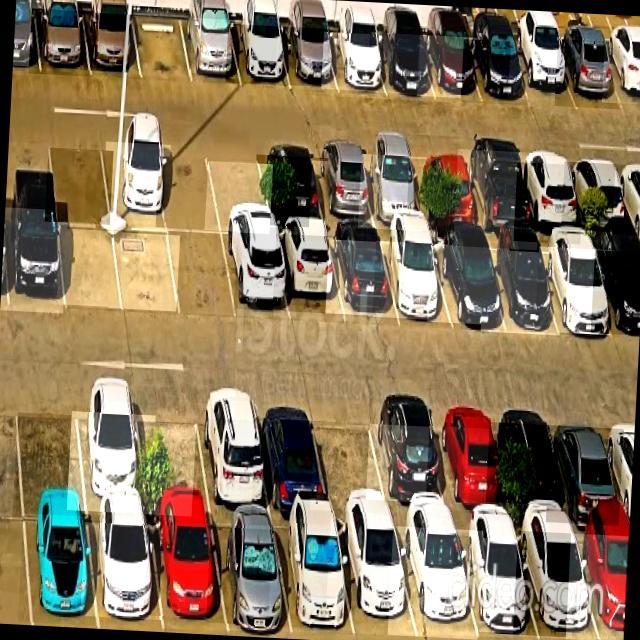empty: (167, 231, 233, 310), (112, 235, 176, 311), (57, 229, 120, 306), (49, 148, 110, 222), (160, 157, 220, 230), (209, 163, 270, 232), (132, 15, 190, 78), (7, 142, 57, 209)
occupied: (331, 523, 416, 633), (393, 528, 478, 637), (518, 531, 600, 636), (274, 526, 355, 630), (197, 421, 272, 526), (24, 517, 98, 623), (257, 422, 332, 526), (456, 537, 538, 632), (458, 153, 538, 248), (212, 529, 291, 625), (73, 415, 151, 512), (86, 522, 163, 620), (148, 527, 226, 619), (137, 422, 212, 515), (18, 416, 86, 517), (551, 427, 620, 524), (5, 208, 63, 314), (430, 428, 504, 511), (486, 250, 560, 333), (315, 426, 385, 511), (490, 426, 564, 506), (377, 242, 451, 321), (572, 536, 628, 640), (540, 250, 610, 333), (432, 247, 505, 326), (222, 228, 289, 311), (370, 428, 445, 501), (106, 145, 167, 233), (277, 234, 343, 314), (330, 240, 398, 317), (518, 163, 581, 242), (411, 159, 477, 233), (258, 158, 325, 227), (313, 161, 377, 233), (362, 157, 423, 229), (558, 40, 621, 108), (464, 40, 528, 106), (564, 165, 625, 231), (370, 34, 432, 96), (32, 12, 91, 76), (511, 43, 575, 102), (420, 35, 480, 97), (595, 253, 640, 334), (228, 24, 288, 84), (279, 28, 340, 87), (325, 32, 385, 90), (84, 13, 141, 73), (182, 20, 243, 76), (605, 40, 640, 104), (13, 0, 40, 67), (616, 165, 640, 235)
